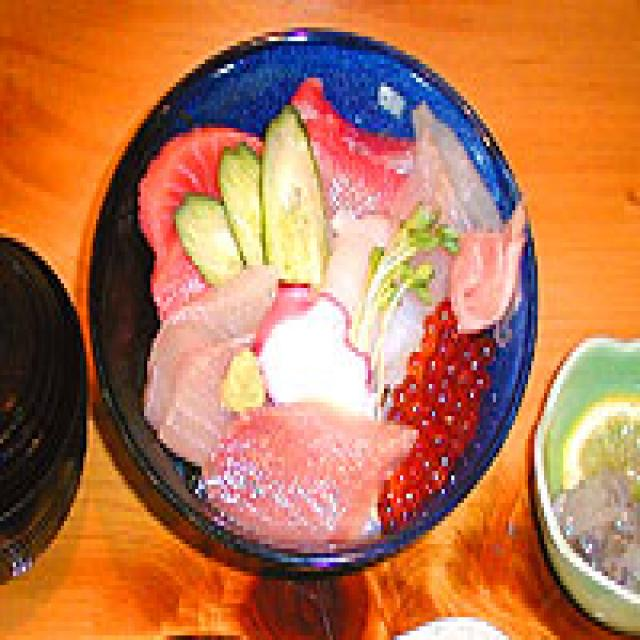刺身生食: (83, 14, 541, 585)
